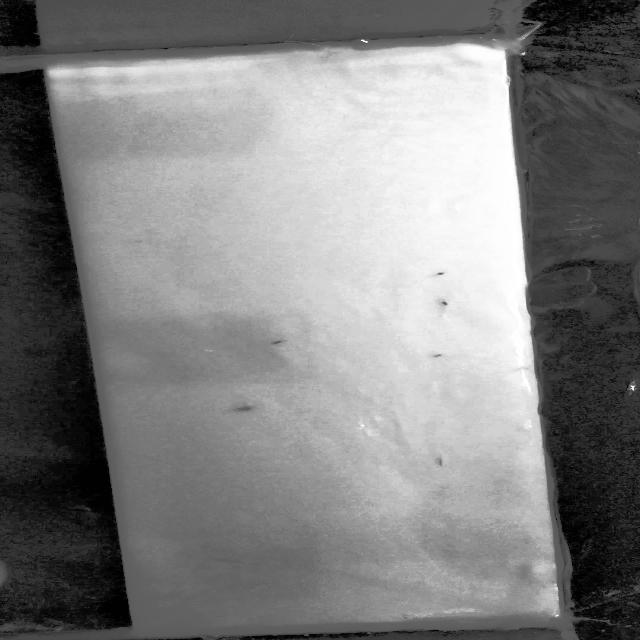shrimp: (423, 351, 459, 366), (231, 401, 257, 415), (426, 269, 454, 281), (429, 297, 454, 310), (210, 558, 246, 566), (267, 337, 292, 348), (436, 454, 448, 471)
